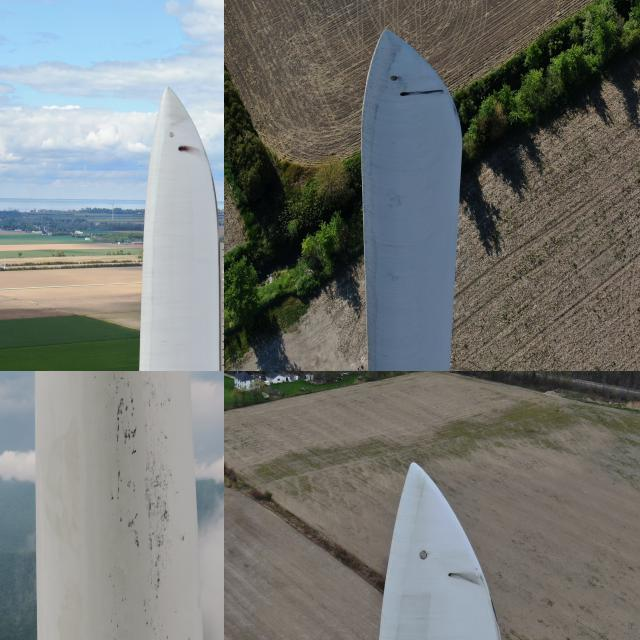damage: (99, 371, 186, 639), (399, 88, 449, 101), (447, 569, 483, 585), (177, 142, 197, 156), (448, 572, 452, 578)
